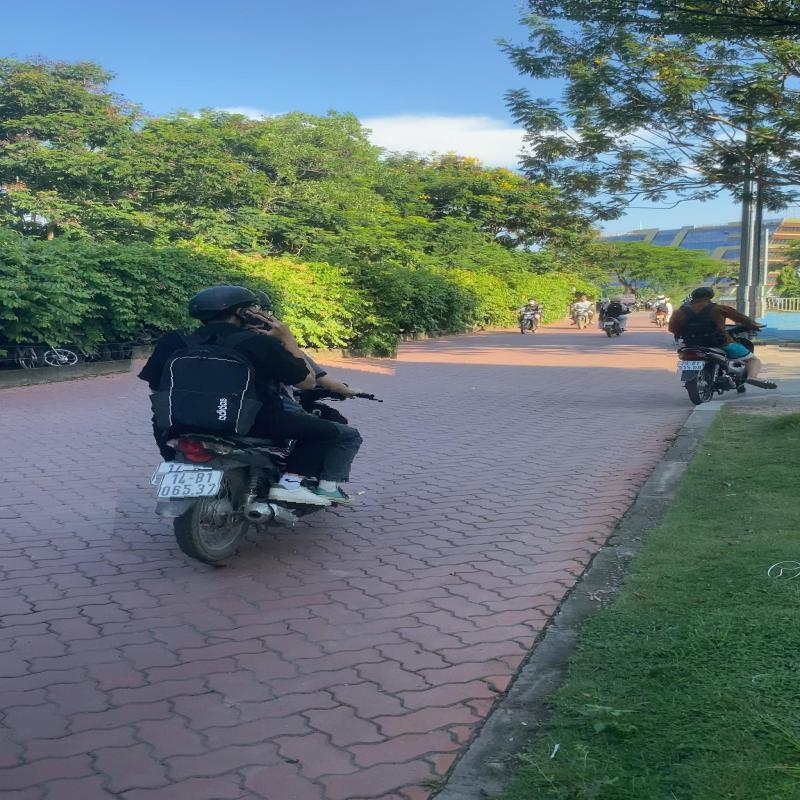helmet: (181, 282, 264, 334), (690, 287, 716, 300)
licenseplate: (157, 469, 225, 501), (677, 360, 704, 372)
motorcyclist: (118, 274, 396, 574), (666, 286, 780, 405)
